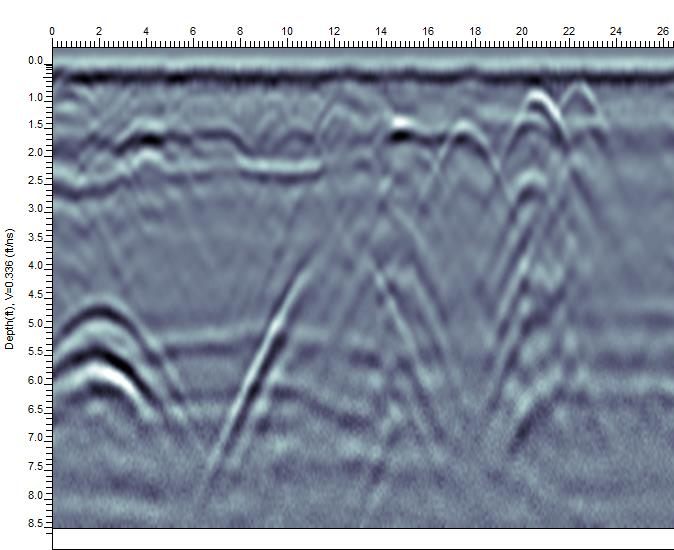hyperbola: (54, 295, 180, 433), (427, 114, 507, 211)
